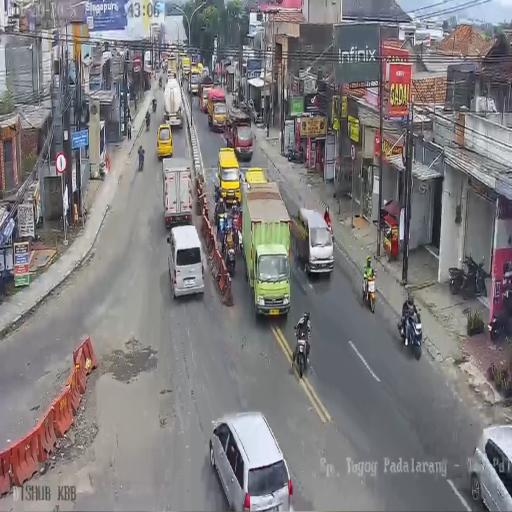car: (209, 410, 293, 509), (468, 423, 512, 508), (168, 226, 205, 300), (216, 147, 241, 205), (228, 121, 254, 160), (156, 124, 173, 158), (244, 166, 267, 190)
motorcycle: (490, 266, 512, 337), (398, 302, 422, 359), (292, 324, 311, 378), (472, 253, 488, 295), (449, 258, 467, 295), (362, 272, 376, 313), (214, 194, 226, 228), (286, 143, 304, 164), (232, 206, 242, 242), (145, 110, 151, 132), (151, 98, 157, 112), (154, 66, 159, 80), (159, 76, 162, 89)
truck: (244, 180, 291, 316), (291, 206, 335, 276), (163, 160, 194, 232), (163, 78, 183, 130), (200, 80, 214, 112), (166, 52, 178, 78), (190, 71, 200, 94), (181, 56, 191, 78), (202, 66, 209, 79)
